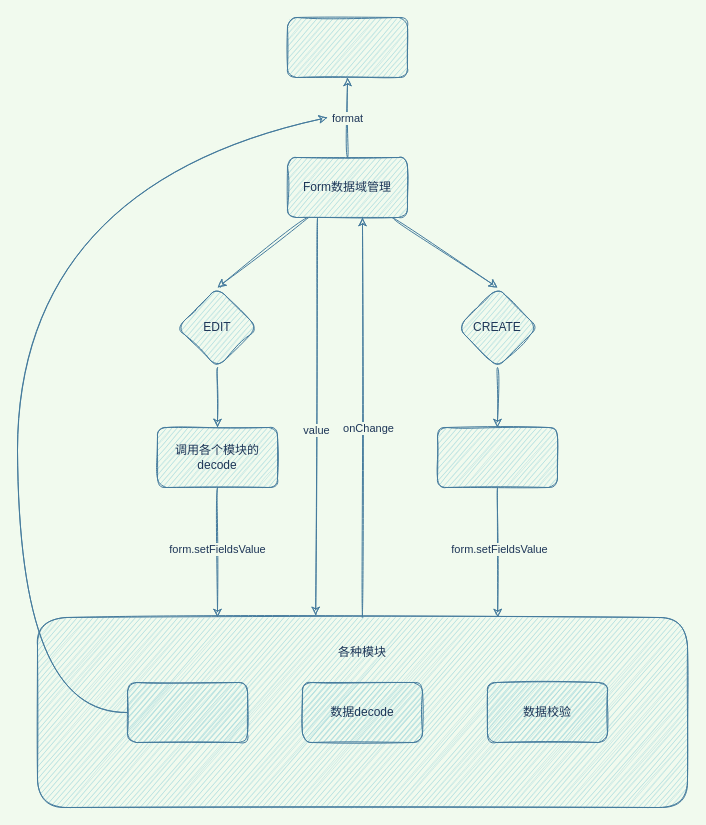
Some shapes in this 706 by 825 pixel diagram are drawn without their labels. Here are the shapes that lost their labels. From the top down, the centre of each, then its label:
the point at 347,47: submit
the point at 497,457: 各个模块数据初始化 decode
the point at 187,712: 数据format
